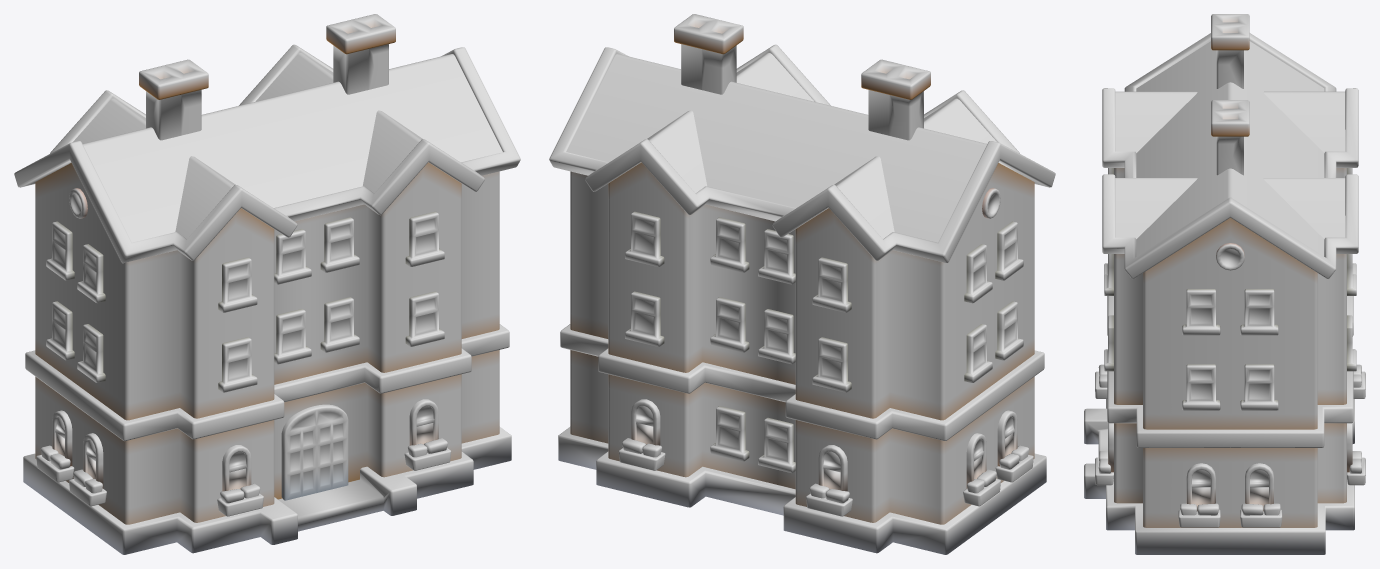
File: Building_082.fbx
3 views of the same model, side by side, from view 1: azimuth 30°, elevation 25°; view 2: azimuth 150°, elevation 25°; view 3: azimuth 270°, elevation 25° (orthographic). The views are drawn at different scales.
Parts seen in each view (by area): view 1: Building_082; view 2: Building_082; view 3: Building_082.
Part boxes in pixels (x1,y1,x2,y2): Building_082: (14,14,520,554); Building_082: (549,14,1055,554); Building_082: (1084,14,1365,554).
Size of the model in its own units: 1530 by 967 by 1505.
